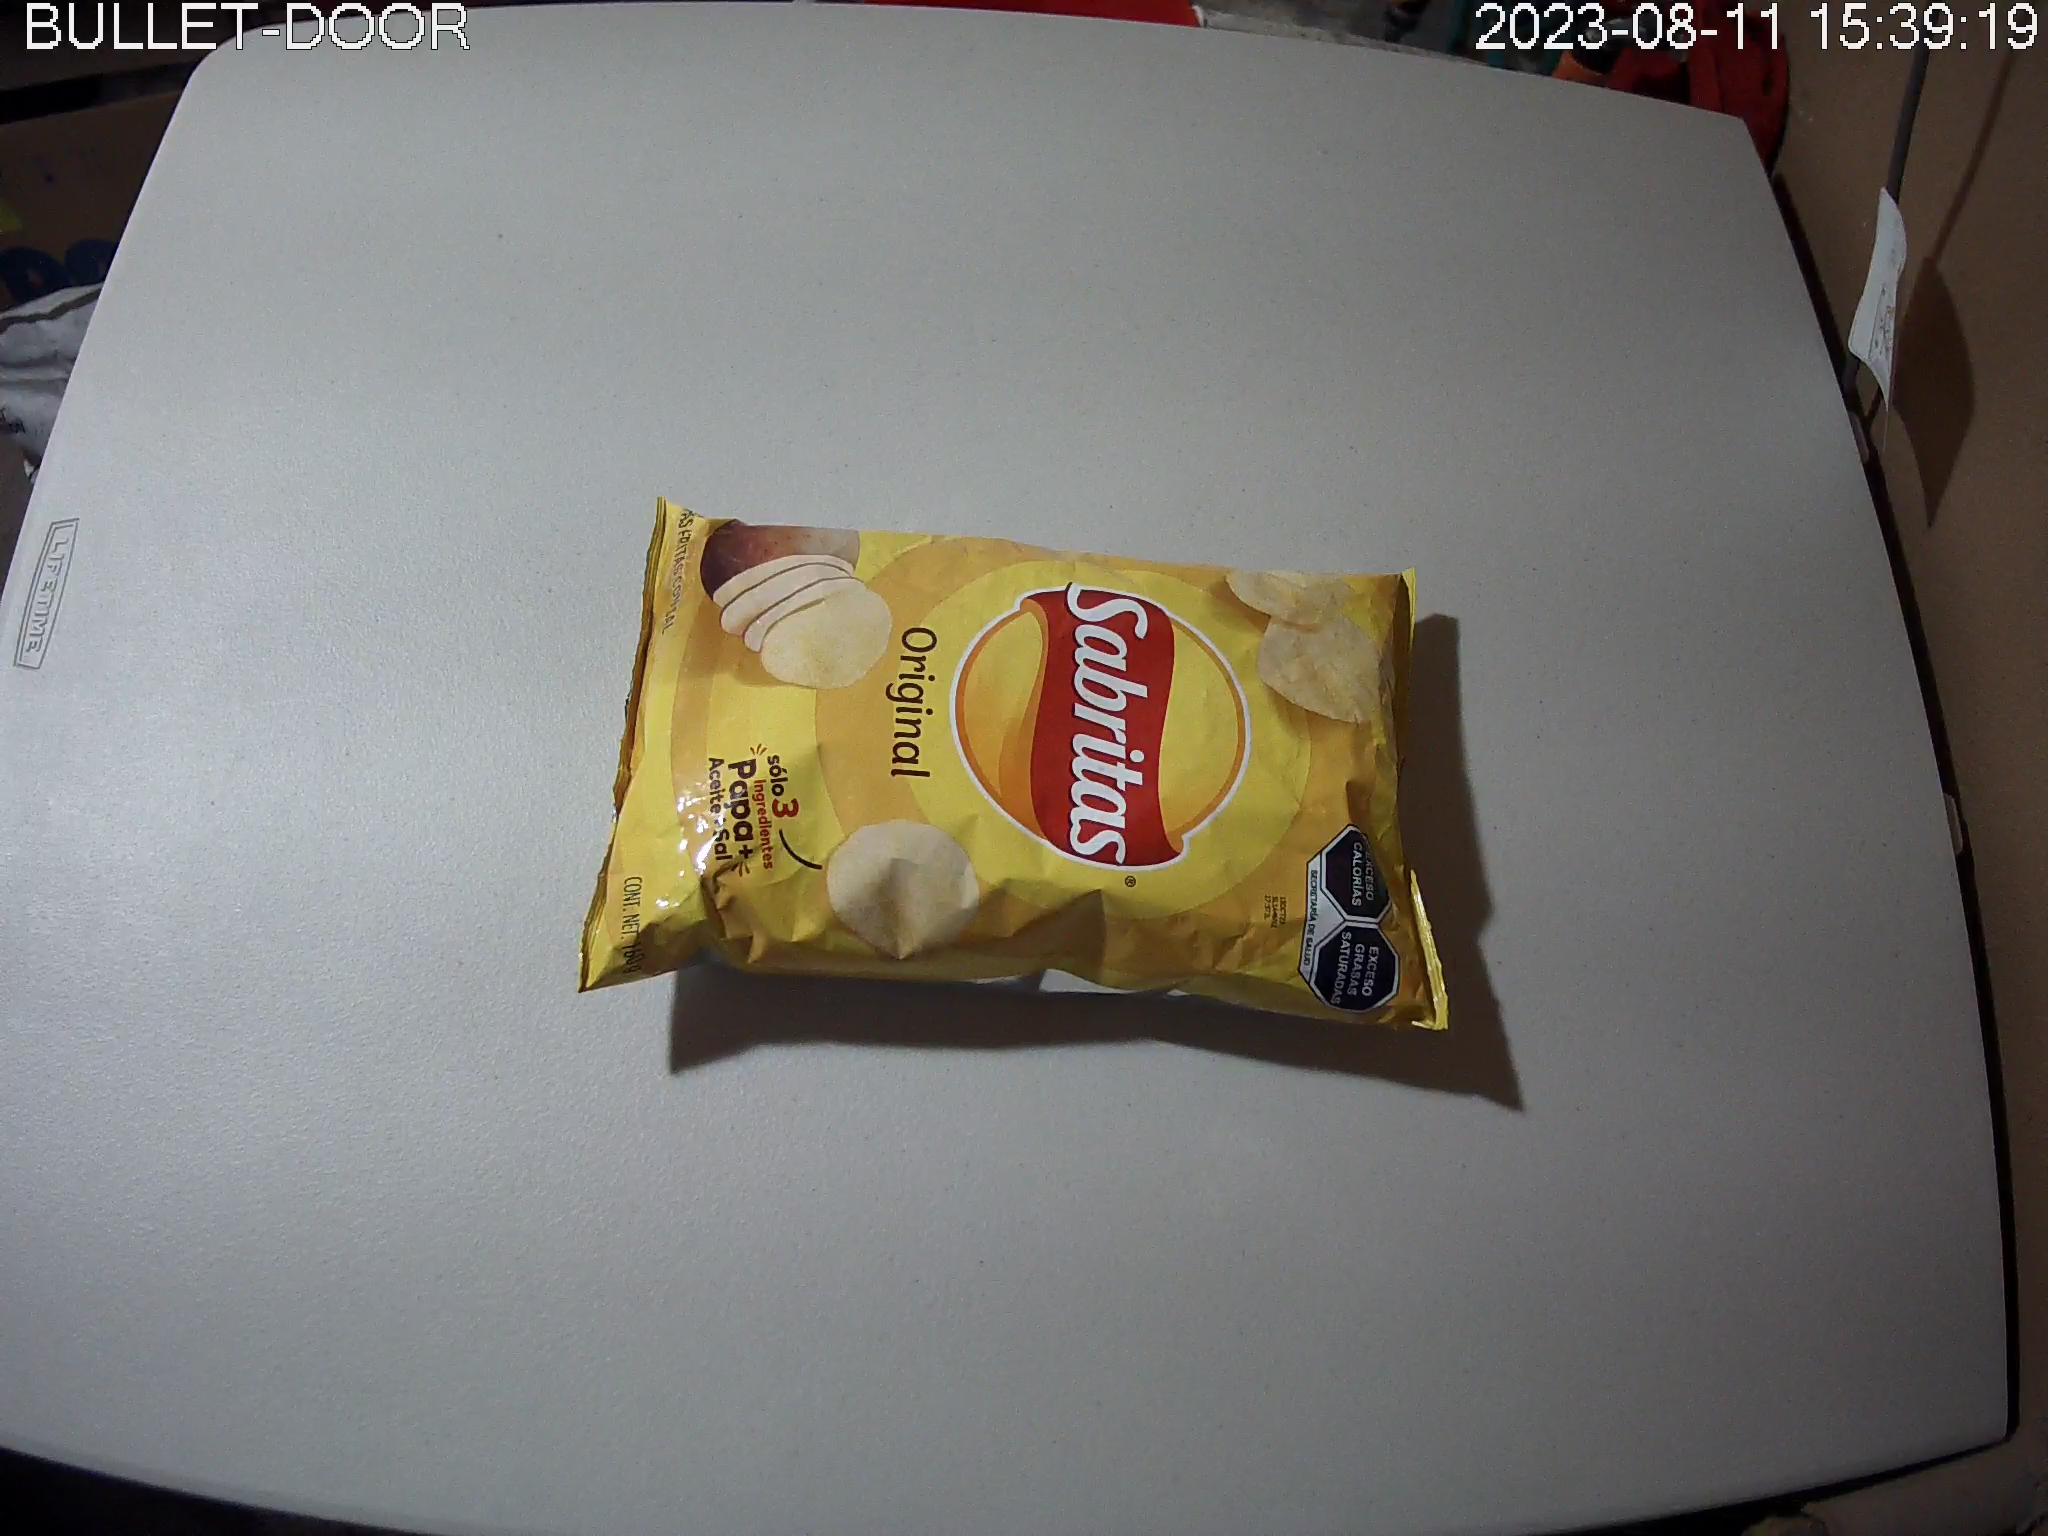Sabritas_160_F: (577, 495, 1455, 1036)
